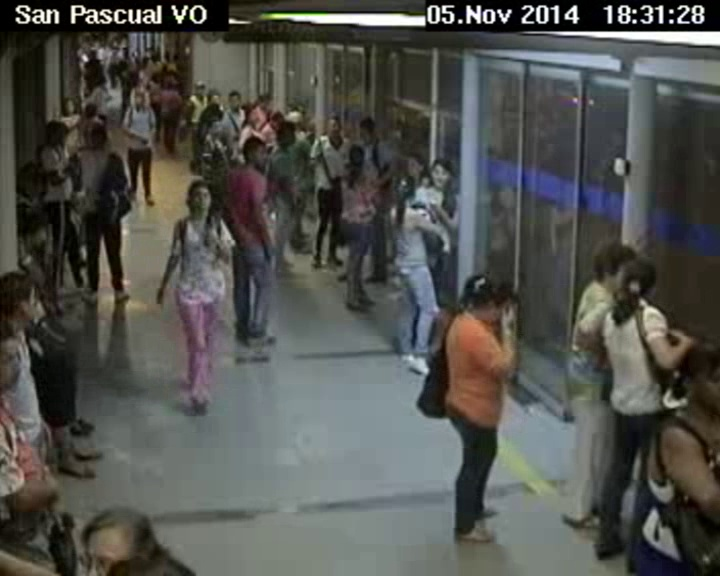person: (74, 498, 163, 576), (675, 332, 720, 414), (460, 265, 512, 326), (588, 235, 640, 293), (1, 270, 52, 328), (617, 255, 666, 312), (1, 316, 32, 397), (181, 179, 217, 218), (239, 133, 272, 172), (388, 170, 414, 208), (16, 164, 46, 196), (403, 146, 431, 178), (46, 115, 72, 148), (430, 154, 453, 190), (80, 120, 109, 143), (346, 141, 364, 172), (81, 100, 104, 123), (207, 120, 228, 144), (359, 116, 377, 143), (325, 113, 344, 138), (57, 95, 75, 117), (190, 74, 207, 95), (287, 110, 304, 129), (267, 111, 284, 128), (206, 92, 224, 108), (229, 88, 241, 109), (130, 93, 146, 108), (160, 80, 174, 89), (256, 95, 265, 109)
